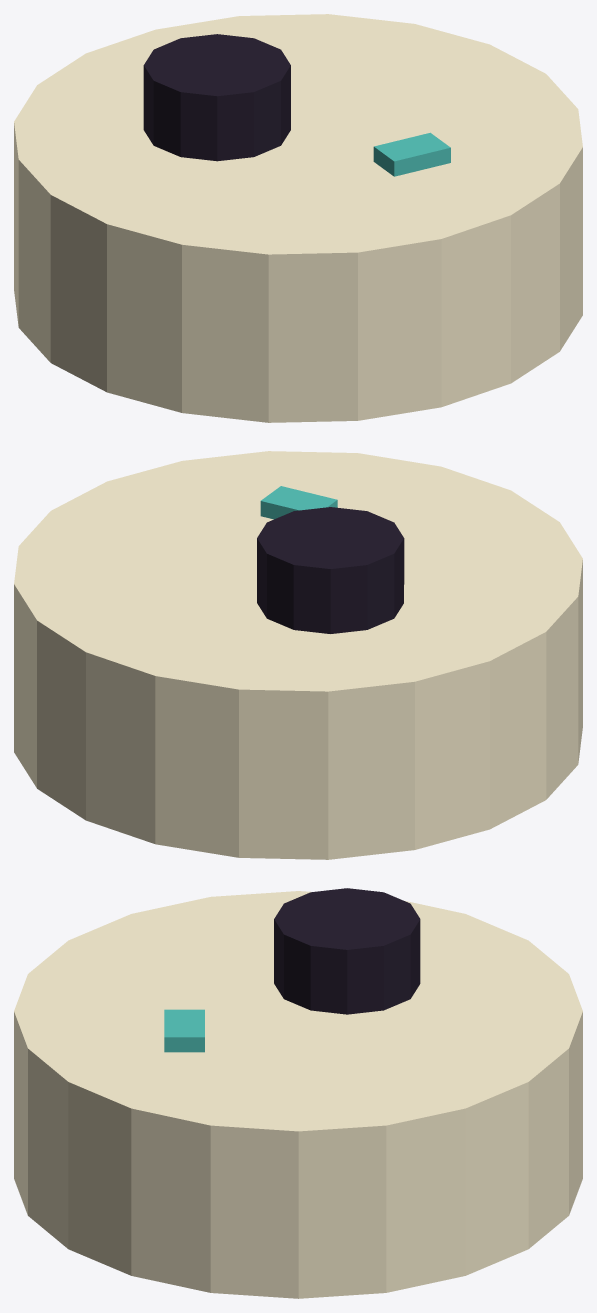
The model's file is vacuum.glb.
3 views of the same model, one above another, from view 1: azimuth 30°, elevation 25°; view 2: azimuth 150°, elevation 25°; view 3: azimuth 270°, elevation 25° (orthographic).
Visible parts, largest first — view 1: vacuum; view 2: vacuum; view 3: vacuum.
Part boxes in pixels (<box>): vacuum: <box>14,14,582,422</box>; vacuum: <box>14,451,582,859</box>; vacuum: <box>14,888,582,1298</box>.
Bounding box in the file's own units: 0.35 × 0.1575 × 0.35.
